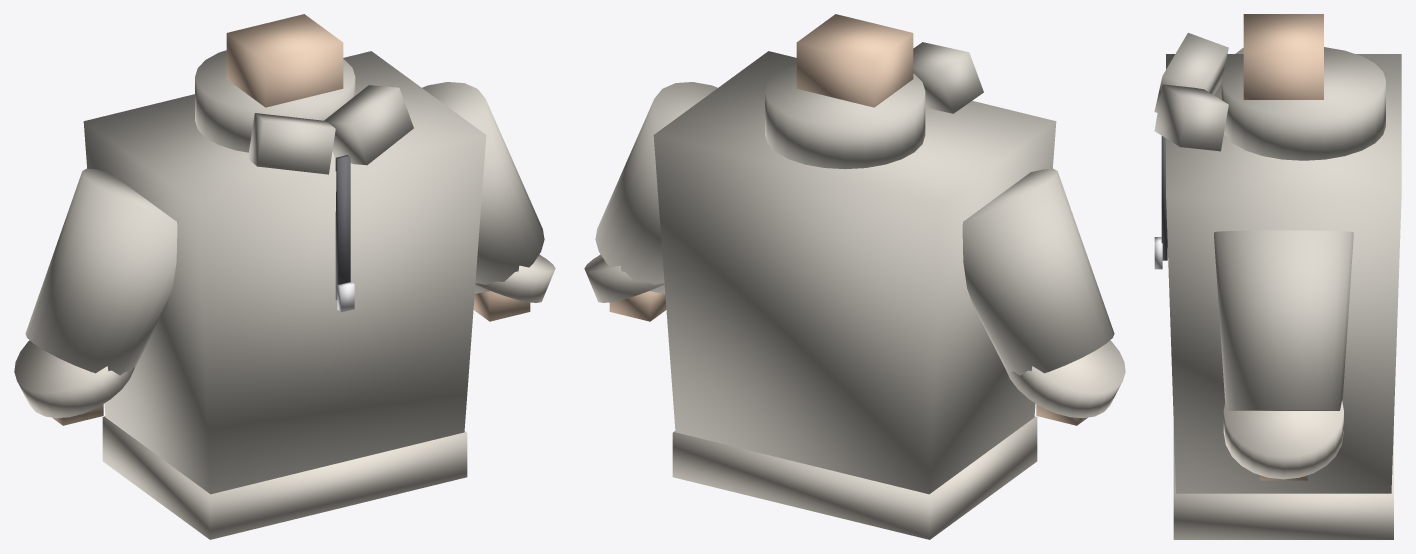
File: row4_04_halfzip_cream.glb
The picture shows the model from 3 angles, left to right: view 1: azimuth 30°, elevation 25°; view 2: azimuth 150°, elevation 25°; view 3: azimuth 270°, elevation 25°; orthographic projection. The views are drawn at different scales.
Visible parts, largest first — view 1: Torso_04_halfzip_cream, Sleeve_R_04_halfzip_cream, Hem_04_halfzip_cream, Sleeve_L_04_halfzip_cream, Neck_04_halfzip_cream, Collar_Back_04_halfzip_cream, Cuff_R_04_halfzip_cream, Collar_Lap_L_04_halfzip_cream, Collar_Lap_R_04_halfzip_cream, HalfZip_04_halfzip_cream, Cuff_L_04_halfzip_cream, Wrist_L_04_halfzip_cream; view 2: Torso_04_halfzip_cream, Sleeve_R_04_halfzip_cream, Hem_04_halfzip_cream, Collar_Back_04_halfzip_cream, Sleeve_L_04_halfzip_cream, Neck_04_halfzip_cream, Cuff_R_04_halfzip_cream, Collar_Lap_R_04_halfzip_cream, Cuff_L_04_halfzip_cream, Wrist_L_04_halfzip_cream; view 3: Torso_04_halfzip_cream, Sleeve_L_04_halfzip_cream, Collar_Back_04_halfzip_cream, Hem_04_halfzip_cream, Cuff_L_04_halfzip_cream, Neck_04_halfzip_cream, Collar_Lap_L_04_halfzip_cream, Collar_Lap_R_04_halfzip_cream, HalfZip_04_halfzip_cream.
Part boxes in pixels (bbox=[...]): Torso_04_halfzip_cream: bbox=[83, 51, 486, 494]; Sleeve_R_04_halfzip_cream: bbox=[25, 168, 177, 375]; Hem_04_halfzip_cream: bbox=[102, 416, 467, 539]; Sleeve_L_04_halfzip_cream: bbox=[422, 82, 544, 293]; Neck_04_halfzip_cream: bbox=[226, 14, 343, 107]; Collar_Back_04_halfzip_cream: bbox=[195, 50, 355, 152]; Cuff_R_04_halfzip_cream: bbox=[14, 340, 134, 418]; Collar_Lap_L_04_halfzip_cream: bbox=[324, 85, 413, 165]; Collar_Lap_R_04_halfzip_cream: bbox=[248, 113, 335, 174]; HalfZip_04_halfzip_cream: bbox=[335, 155, 350, 300]; Cuff_L_04_halfzip_cream: bbox=[475, 254, 555, 302]; Wrist_L_04_halfzip_cream: bbox=[473, 291, 530, 321]; Torso_04_halfzip_cream: bbox=[653, 51, 1056, 494]; Sleeve_R_04_halfzip_cream: bbox=[962, 168, 1114, 375]; Hem_04_halfzip_cream: bbox=[672, 416, 1037, 539]; Collar_Back_04_halfzip_cream: bbox=[765, 64, 925, 169]; Sleeve_L_04_halfzip_cream: bbox=[595, 82, 717, 293]; Neck_04_halfzip_cream: bbox=[796, 14, 913, 107]; Cuff_R_04_halfzip_cream: bbox=[1005, 340, 1125, 418]; Collar_Lap_R_04_halfzip_cream: bbox=[913, 42, 983, 113]; Cuff_L_04_halfzip_cream: bbox=[584, 254, 664, 302]; Wrist_L_04_halfzip_cream: bbox=[609, 291, 666, 321]; Torso_04_halfzip_cream: bbox=[1166, 54, 1401, 493]; Sleeve_L_04_halfzip_cream: bbox=[1214, 230, 1353, 410]; Collar_Back_04_halfzip_cream: bbox=[1221, 47, 1385, 160]; Hem_04_halfzip_cream: bbox=[1173, 426, 1393, 539]; Cuff_L_04_halfzip_cream: bbox=[1223, 400, 1343, 479]; Neck_04_halfzip_cream: bbox=[1243, 14, 1323, 99]; Collar_Lap_L_04_halfzip_cream: bbox=[1154, 84, 1228, 151]; Collar_Lap_R_04_halfzip_cream: bbox=[1154, 32, 1228, 112]; HalfZip_04_halfzip_cream: bbox=[1161, 136, 1167, 260].
Size of the model in its own units: 0.6193 by 0.487 by 0.2467.
